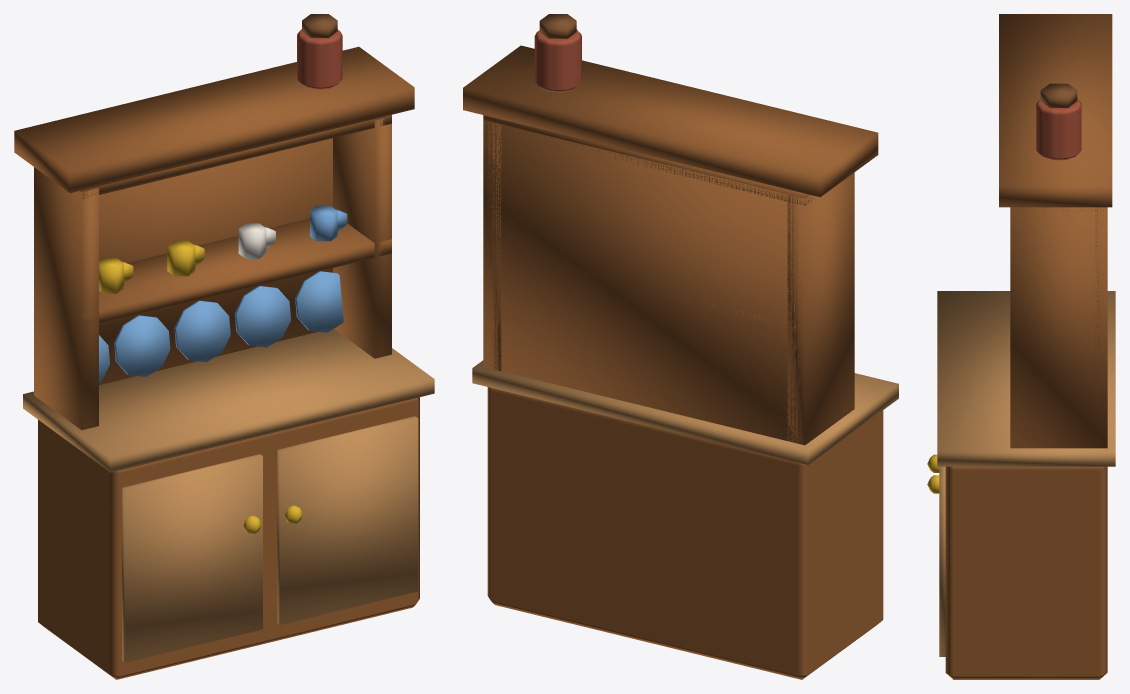
File: cupboard.glb
The picture shows the model from 3 angles, left to right: view 1: azimuth 30°, elevation 25°; view 2: azimuth 150°, elevation 25°; view 3: azimuth 270°, elevation 25°; orthographic projection. The views are drawn at different scales.
Parts seen in each view (by area): view 1: cupboard; view 2: cupboard; view 3: cupboard.
Boxes of the visible parts, <box> form: cupboard: <box>14,14,434,679</box>; cupboard: <box>463,14,898,679</box>; cupboard: <box>927,14,1115,679</box>.
Bounding box in the file's own units: 1 × 1.55 × 0.465.
